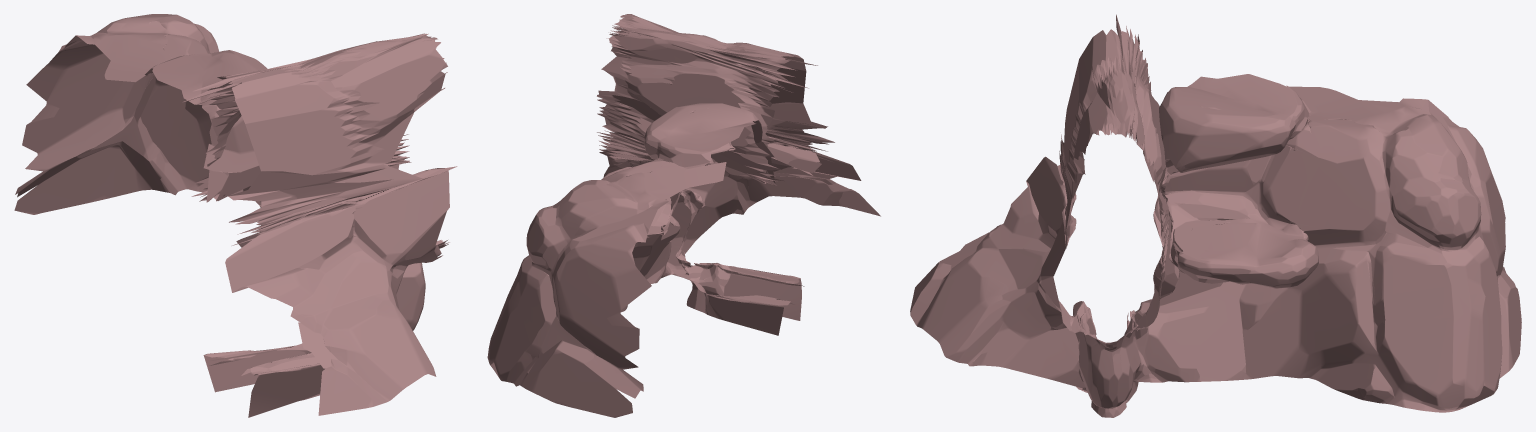
Rendered from mini_canyon.fbx_Cube__12__001LODs.fbx.
3 views of the same model, side by side, from view 1: azimuth 30°, elevation 25°; view 2: azimuth 150°, elevation 25°; view 3: azimuth 270°, elevation 25° (orthographic). The views are drawn at different scales.
Visible parts, largest first — view 1: Cube (12).001_LOD0; view 2: Cube (12).001_LOD0; view 3: Cube (12).001_LOD0.
Boxes of the visible parts, x1,y1,x2,y2 form: Cube (12).001_LOD0: (14, 14, 457, 417); Cube (12).001_LOD0: (487, 14, 880, 417); Cube (12).001_LOD0: (910, 14, 1521, 417).
Size of what is drawn, in the model's own units: 1857 by 2360 by 3957.
